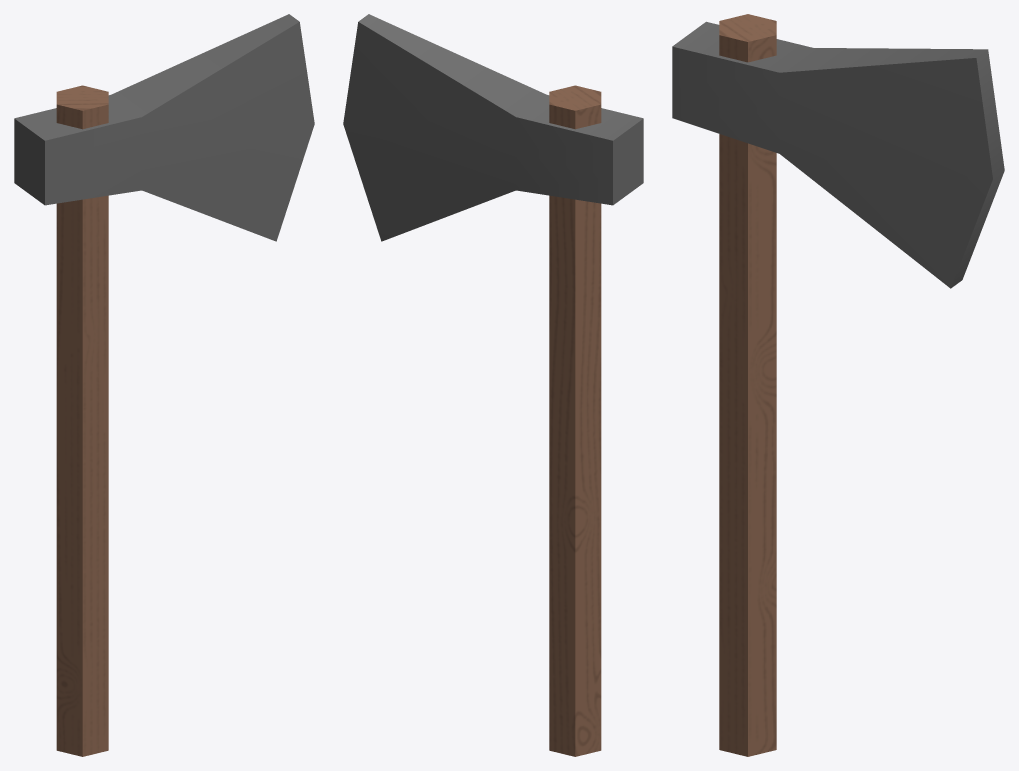
File: Axe.fbx
3 views of the same model, side by side, from view 1: azimuth 30°, elevation 25°; view 2: azimuth 150°, elevation 25°; view 3: azimuth 330°, elevation 25° (orthographic). The views are drawn at different scales.
Visible parts, largest first — view 1: Axe; view 2: Axe; view 3: Axe.
Boxes of the visible parts, <box> form: Axe: <box>14,14,314,756</box>; Axe: <box>343,14,643,756</box>; Axe: <box>672,14,1004,756</box>.
Size of the model in its own units: 63.4 by 146 by 12.03.
